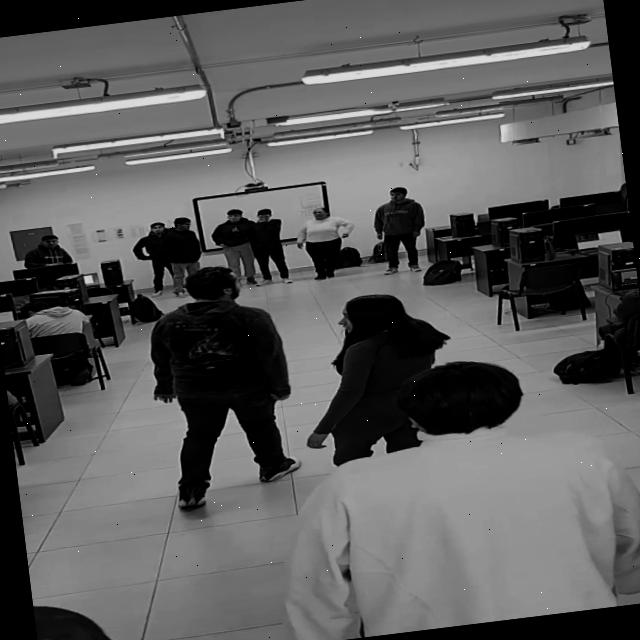Persona: (355, 336, 640, 633), (144, 261, 288, 484), (331, 286, 438, 451), (370, 183, 426, 274), (249, 204, 303, 286), (296, 205, 353, 273), (214, 204, 260, 274), (21, 230, 84, 274), (164, 213, 202, 274), (138, 220, 172, 280)
